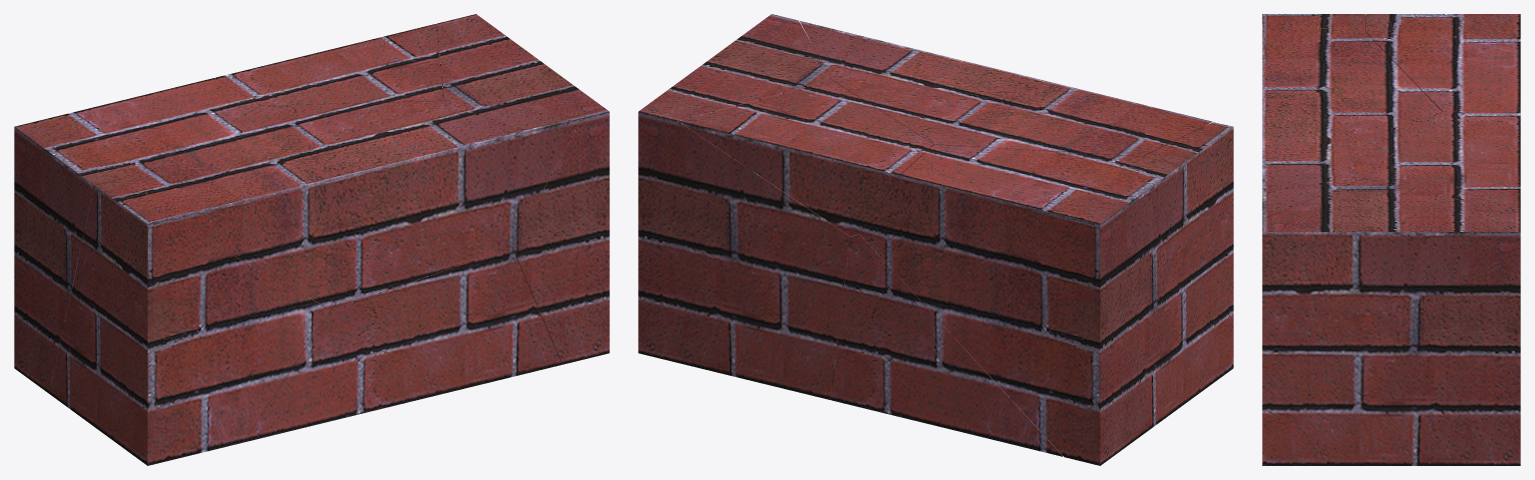
Rendered from ObstacleBlenderBROKEN.fbx.
3 renders of one model, left to right at view 1: azimuth 30°, elevation 25°; view 2: azimuth 150°, elevation 25°; view 3: azimuth 270°, elevation 25°, orthographic. The views are drawn at different scales.
Visible parts, largest first — view 1: Cube_cell, Cube_cell.001, Cube_cell.005, Cube_cell.002, Cube_cell.004, Cube_cell.006; view 2: Cube_cell.002, Cube_cell.004, Cube_cell, Cube_cell.003, Cube_cell.001, Cube_cell.006; view 3: Cube_cell.004, Cube_cell, Cube_cell.002, Cube_cell.006, Cube_cell.001.
Boxes of the visible parts, left/top/right/bottom form: Cube_cell: left=133, top=101, right=581, bottom=309; Cube_cell.001: left=49, top=176, right=330, bottom=465; Cube_cell.005: left=243, top=247, right=561, bottom=442; Cube_cell.002: left=14, top=78, right=260, bottom=393; Cube_cell.004: left=436, top=14, right=609, bottom=364; Cube_cell.006: left=215, top=24, right=443, bottom=105; Cube_cell.002: left=860, top=144, right=1179, bottom=465; Cube_cell.004: left=638, top=14, right=859, bottom=399; Cube_cell: left=800, top=21, right=1212, bottom=156; Cube_cell.003: left=831, top=234, right=1062, bottom=456; Cube_cell.001: left=1135, top=122, right=1233, bottom=440; Cube_cell.006: left=679, top=80, right=933, bottom=236; Cube_cell.004: left=1262, top=179, right=1520, bottom=465; Cube_cell: left=1262, top=23, right=1441, bottom=219; Cube_cell.002: left=1365, top=14, right=1520, bottom=111; Cube_cell.006: left=1365, top=108, right=1520, bottom=212; Cube_cell.001: left=1262, top=14, right=1365, bottom=32.
Bounding box in the file's own units: 2 × 1 × 1.
